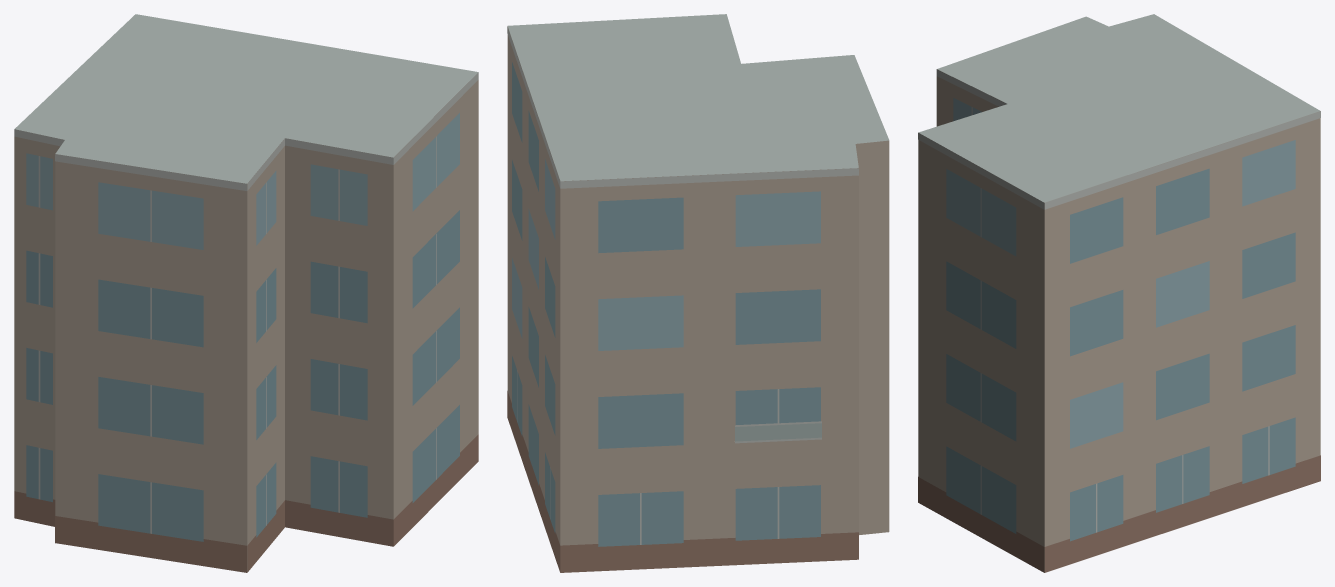
File: survey-upis-32596923.glb
3 renders of one model, left to right at view 1: azimuth 30°, elevation 25°; view 2: azimuth 150°, elevation 25°; view 3: azimuth 270°, elevation 25°, orthographic. The views are drawn at different scales.
Parts seen in each view (by area): view 1: survey-upis-32596923.tmp; view 2: survey-upis-32596923.tmp; view 3: survey-upis-32596923.tmp.
Part boxes in pixels (<box>): survey-upis-32596923.tmp: <box>14,14,478,572</box>; survey-upis-32596923.tmp: <box>507,14,889,572</box>; survey-upis-32596923.tmp: <box>918,14,1320,572</box>.
Bounding box in the file's own units: 14.01 × 12.8 × 12.63.
